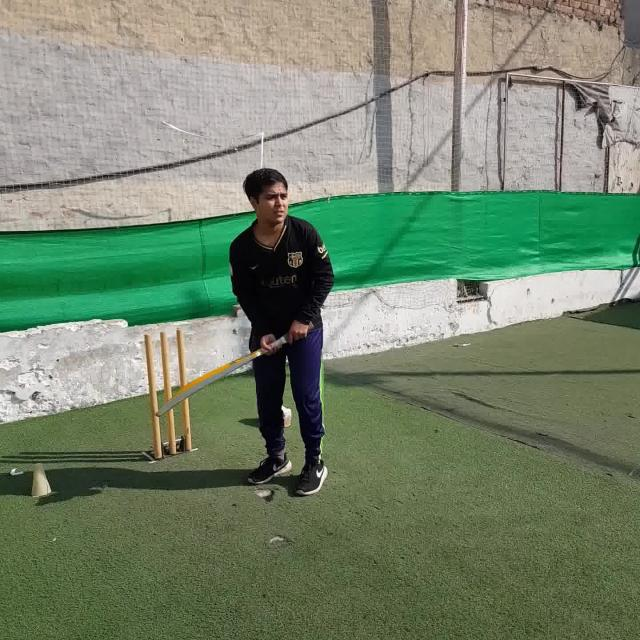bat: (150, 329, 312, 414)
